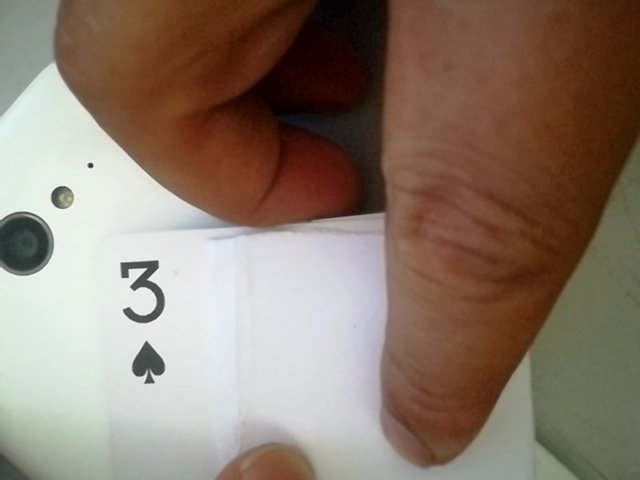ht 3: (105, 247, 186, 396)
